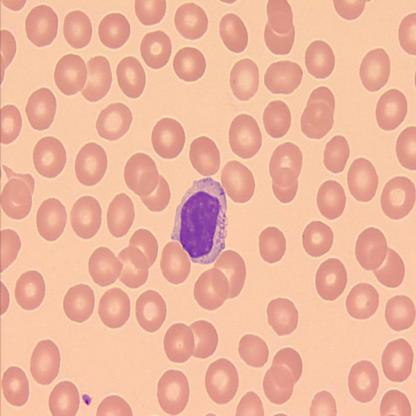Lymphocyte: (171, 177, 230, 265)
